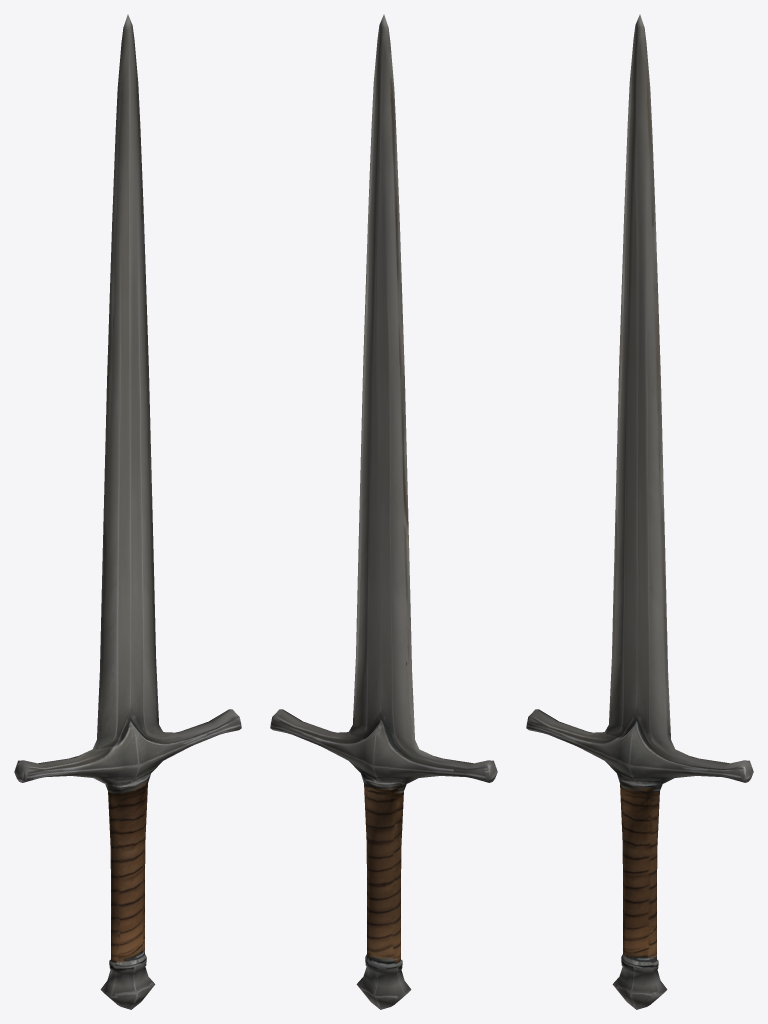
Rendered from MedievalSword.fbx.
3 renders of one model, left to right at view 1: azimuth 30°, elevation 25°; view 2: azimuth 150°, elevation 25°; view 3: azimuth 330°, elevation 25°, orthographic.
Parts seen in each view (by area): view 1: MedievalSword; view 2: MedievalSword; view 3: MedievalSword.
Boxes of the visible parts, x1,y1,x2,y2 form: MedievalSword: (14,14,241,1009); MedievalSword: (270,14,497,1009); MedievalSword: (526,14,753,1009).
Size of the model in its own units: 0.3485 by 1.49 by 0.0617.
Materials: 1 (1 with a texture image).
